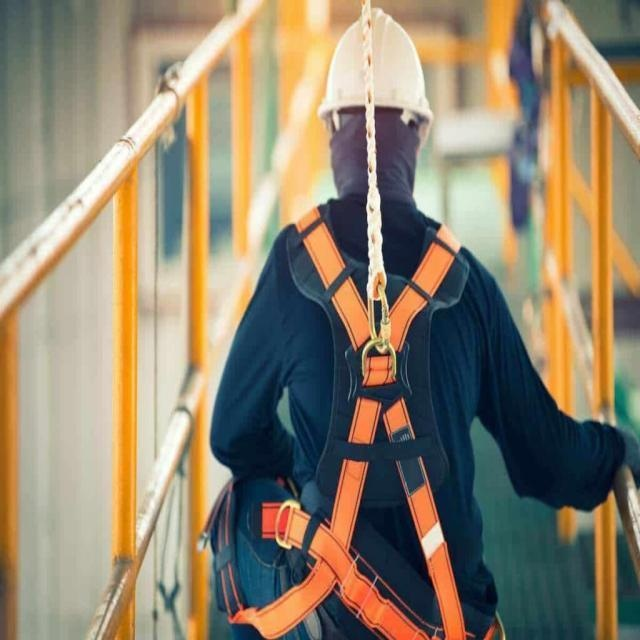Arnes_seguridad: (301, 234, 455, 616)
